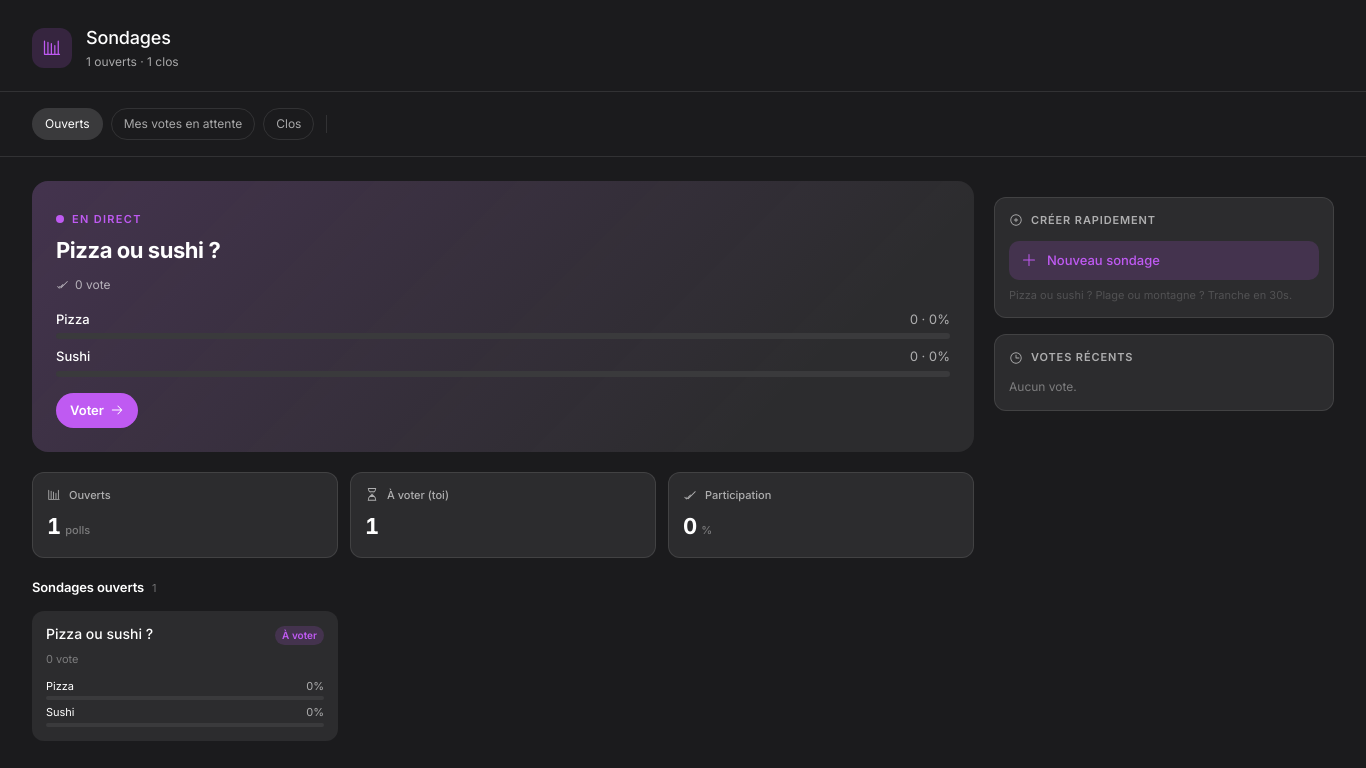
it: Actions destructives — grisées, jamais masquées (MAN-246) › PollsDashboard › laisse « Supprimer » visible et inerte pour un membre simple qui n'est pas l'auteur
The image size is (1366, 768).
What coordinates should you click on to do the following:
click the button "Pizza ou sushi ? À voter 0 vote Pizza 0% Sushi 0%"
I would click on:
 (100, 634)
Its box is [32,611,338,741].
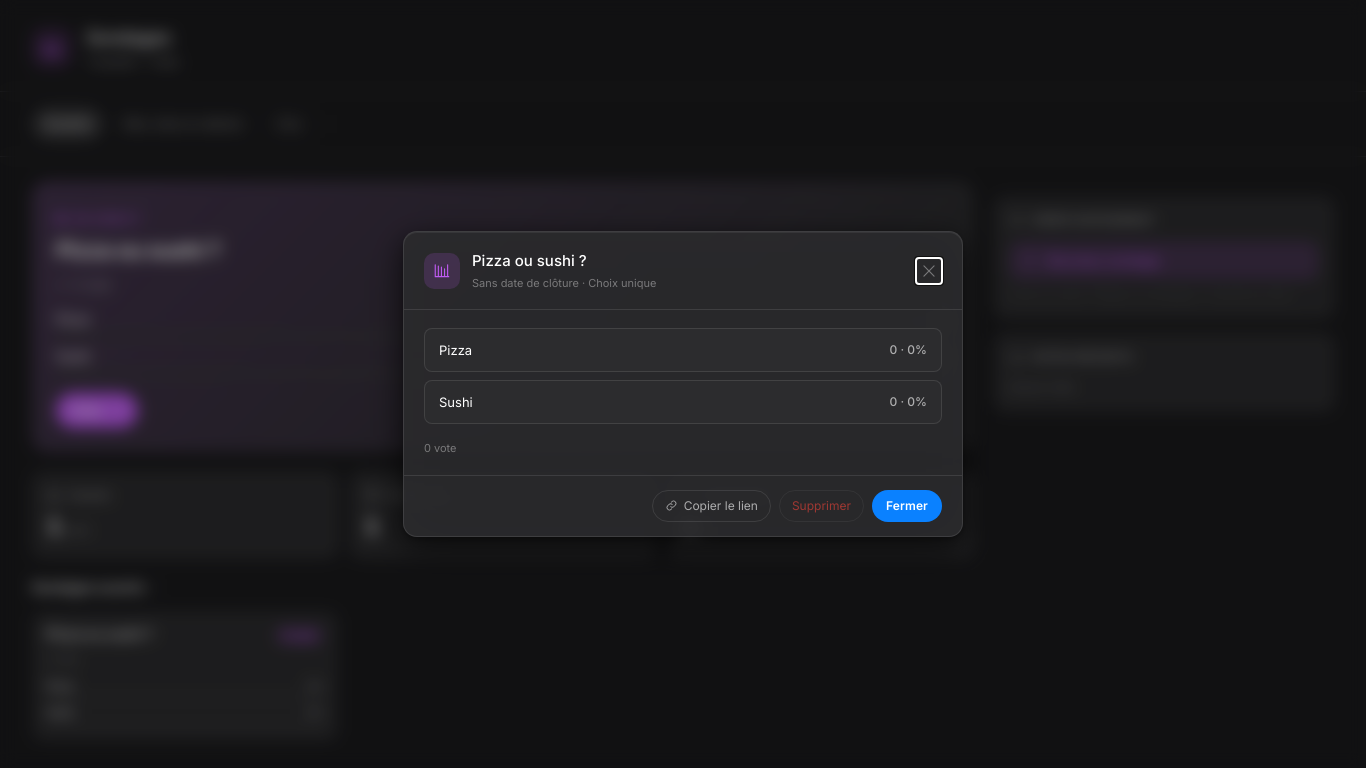
Check: the button "Supprimer" is shown, box [779,490,864,522]
